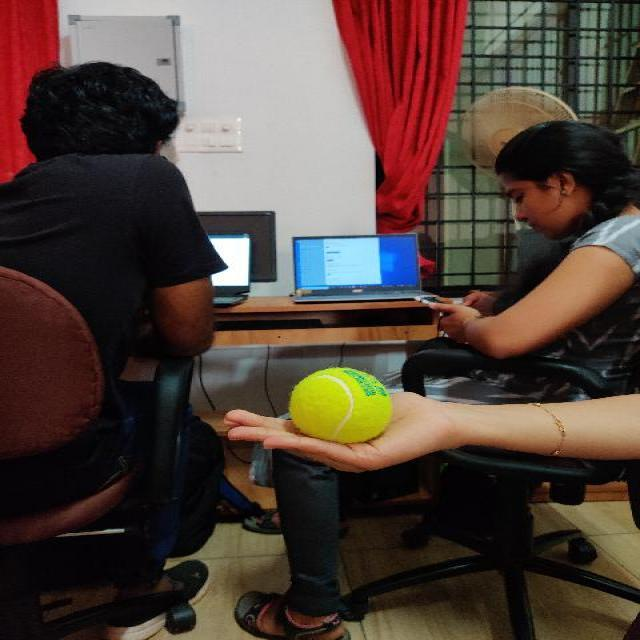tennis-ball: (290, 369, 390, 443)
